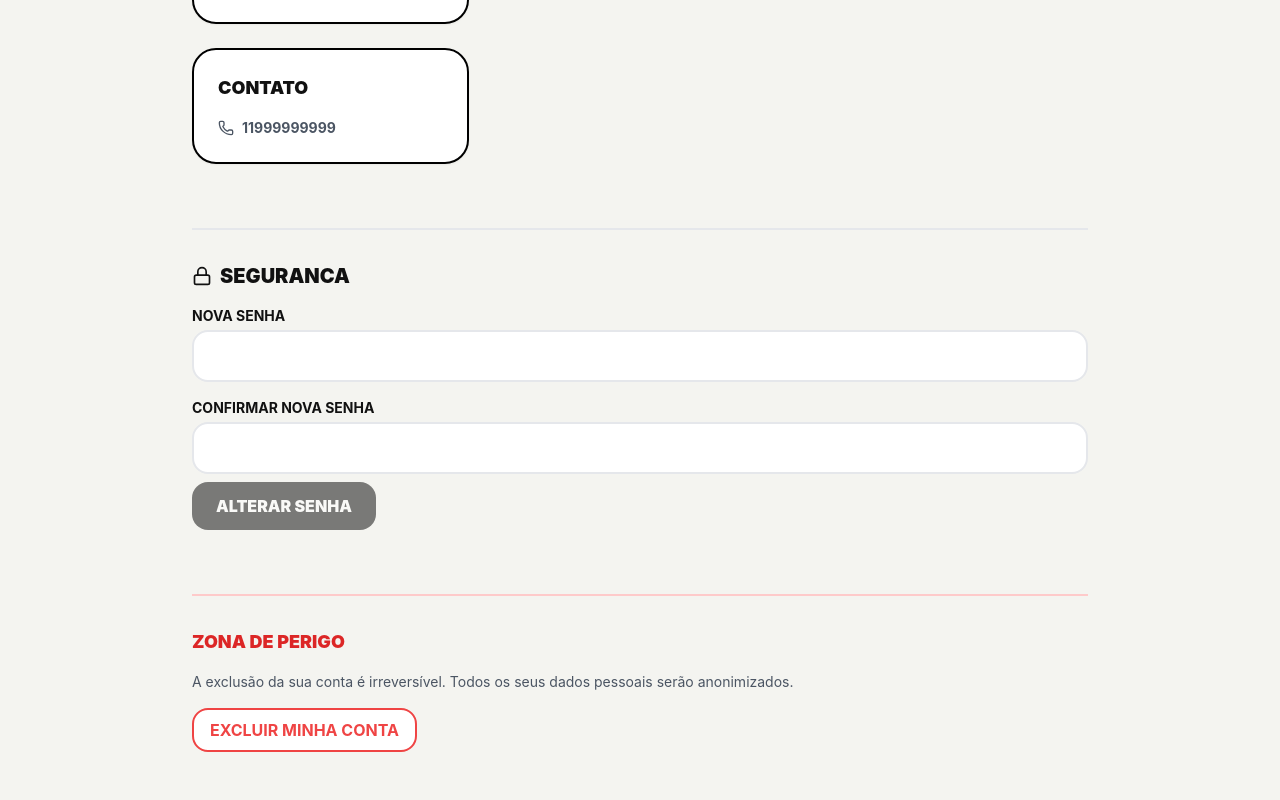
Test: Profile — modal de exclusão de conta › botão Confirmar Exclusão desabilitado quando confirmText !== EXCLUIR
(page scrolled)
Click the button "Excluir minha conta".
click(304, 730)  # box [192,708,417,752]
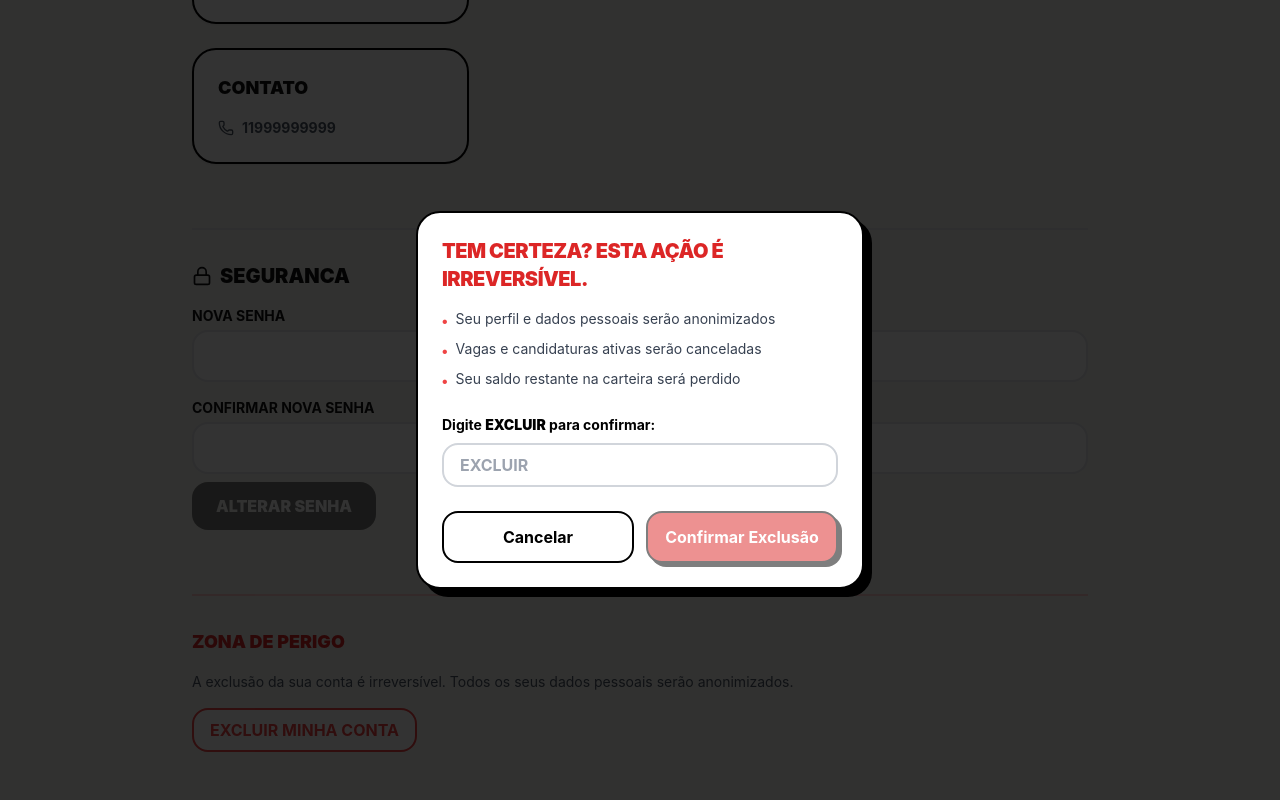
Check: the button "Confirmar Exclusão" is disabled, box [646,511,838,563]
